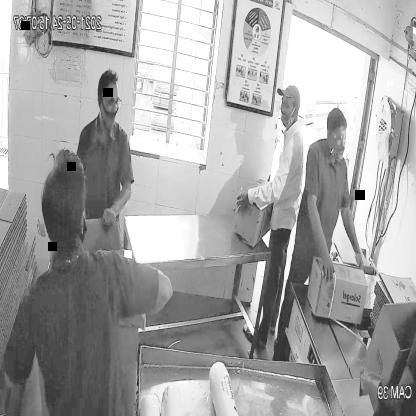goggles: (100, 94, 122, 112), (326, 128, 348, 145)
